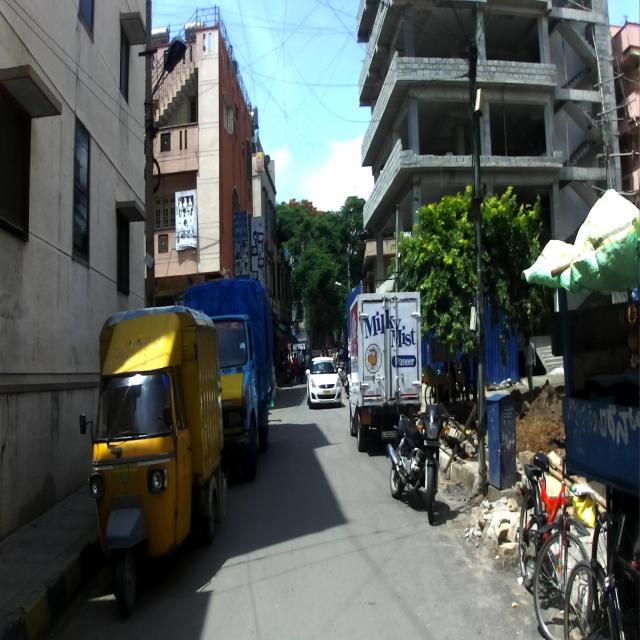autorickshaw: (78, 305, 227, 619)
car: (304, 353, 342, 406)
motorcycle: (387, 403, 451, 524)
